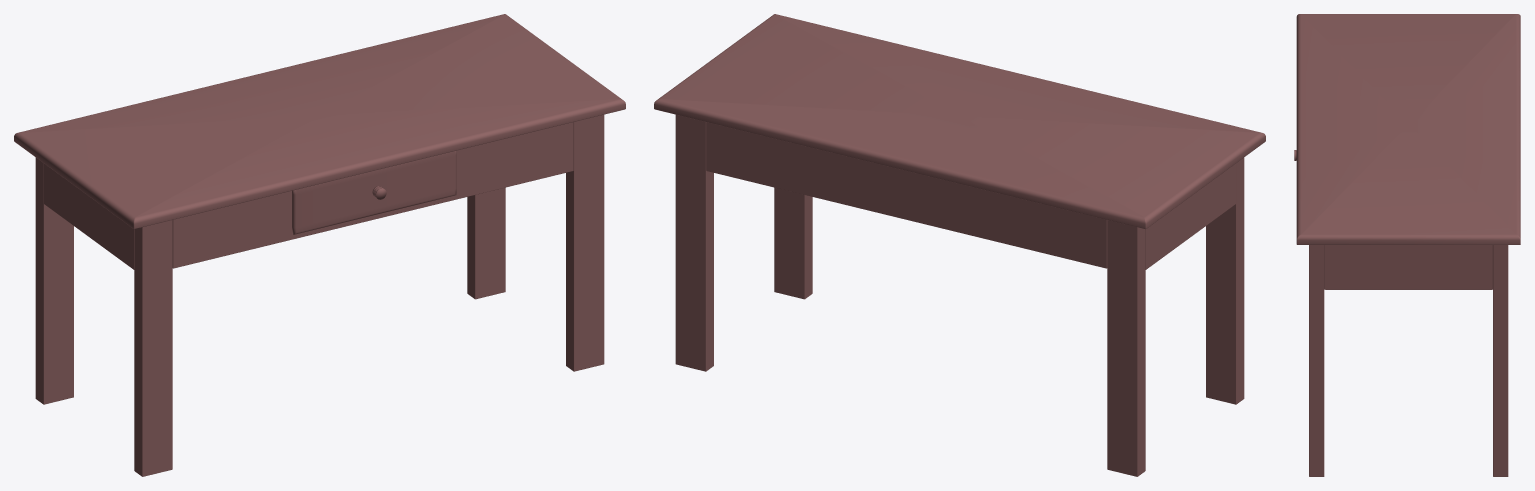
The model's file is desk.glb.
The picture shows the model from 3 angles, left to right: view 1: azimuth 30°, elevation 25°; view 2: azimuth 150°, elevation 25°; view 3: azimuth 270°, elevation 25°; orthographic projection. The views are drawn at different scales.
Visible parts, largest first — view 1: GenericClassicTable001_Cube.005; view 2: GenericClassicTable001_Cube.005; view 3: GenericClassicTable001_Cube.005.
Part boxes in pixels (x1,y1,x2,y2): GenericClassicTable001_Cube.005: [14, 14, 625, 476]; GenericClassicTable001_Cube.005: [654, 14, 1265, 476]; GenericClassicTable001_Cube.005: [1294, 14, 1520, 476].
Size of the model in its own units: 1.12 by 0.5794 by 0.4803.
